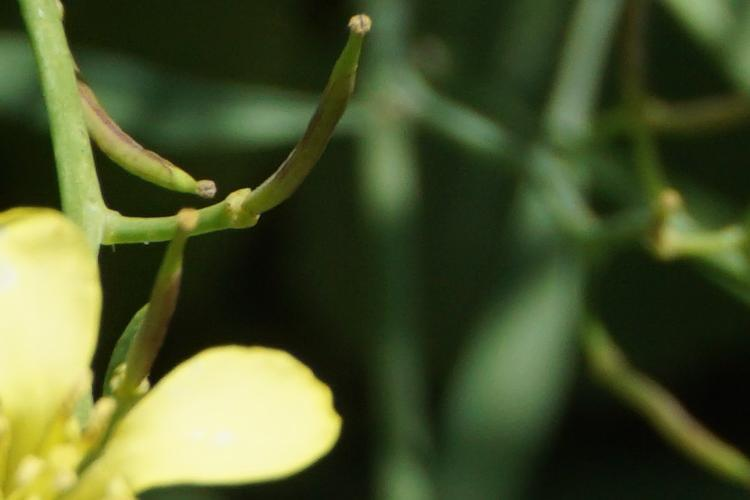pod: (195, 12, 403, 270), (40, 73, 236, 207)
yellow: (21, 239, 370, 487)
